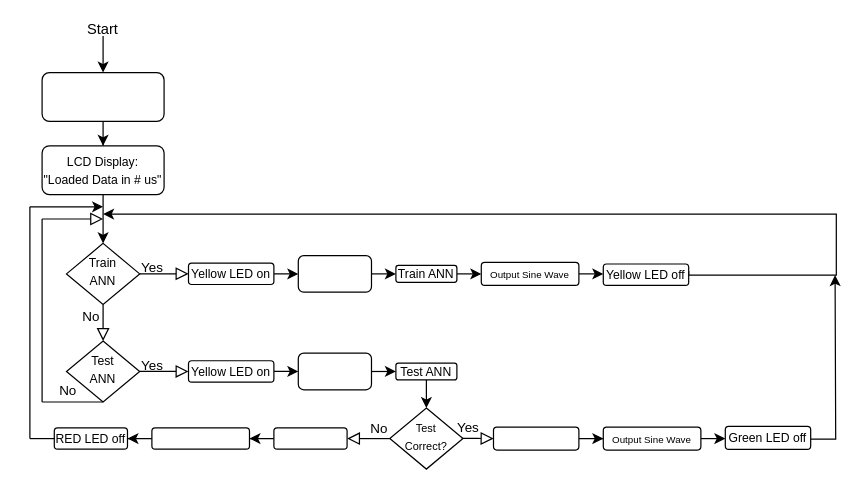
Image size: 867x490. Some labels were removed from this diagram. Here are the shapes that lost their labels. From the top down, the centre of each, then its label:
(x=102, y=96): Module Initializations & Load Data
(x=334, y=273): LCD Display: "ANN Training"
(x=334, y=371): LCD Display: "ANN Testing"
(x=200, y=438): Output Square Wave
(x=310, y=438): RED LED on
(x=535, y=438): Green LED on
